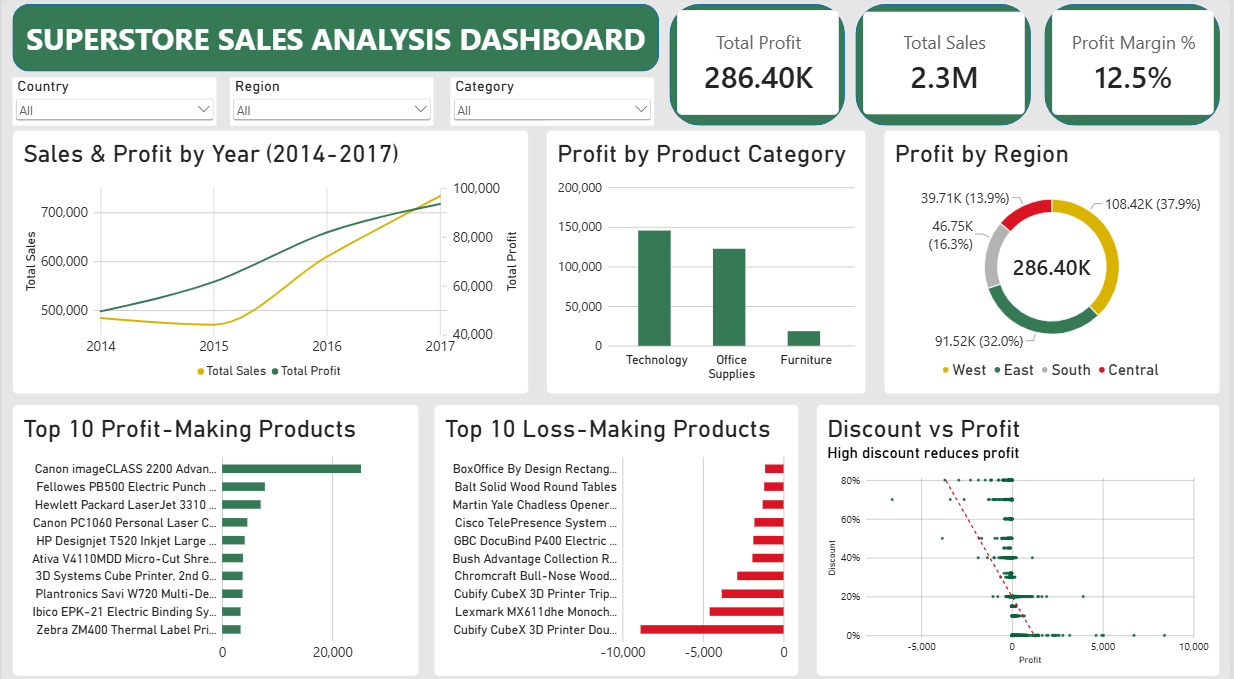

The page's visual inventory and layout, read from the dashboard file:
{"tool":"powerbi","page":{"name":"ANALYSIS DASHBOARD","canvas":[1920,1080],"ordinal":1},"visuals":[{"type":"shape","box":[16.4,14.1,1010.5,105.5],"z":0},{"type":"shape","box":[1043.3,14.1,274.3,189.9],"z":1000},{"type":"cardVisual","fields":{"Data":["Sample - Superstore.Total Profit"]},"box":[1055,23.4,253.2,164.1],"z":2000},{"type":"shape","box":[1334,14.1,274.3,189.9],"z":2001},{"type":"shape","box":[1629.4,14.1,274.3,189.9],"z":2002},{"type":"cardVisual","fields":{"Data":["Sample - Superstore.Total Sales"]},"box":[1345.7,25.8,253.2,161.8],"z":2003},{"type":"cardVisual","fields":{"Data":["Sample - Superstore.Profit Margin %"]},"box":[1641.1,23.4,253.2,164.1],"z":2004},{"type":"lineChart","title":"Sales & Profit by Year (2014-2017)","fields":{"Category":["Sample - Superstore.Order Date.Variation.Date Hierarchy.Year"],"Y":["Sample - Superstore.Total Sales"],"Y2":["Sample - Superstore.Total Profit"]},"box":[16.4,211,806.5,412.6],"z":2005},{"type":"columnChart","title":"Profit by Product Category","fields":{"Category":["Sample - Superstore.Category"],"Y":["Sample - Superstore.Total Profit"]},"box":[851,211,499.4,412.6],"z":2006},{"type":"donutChart","title":"Profit by Region","fields":{"Category":["Sample - Superstore.Region"],"Y":["Sample - Superstore.Total Profit"]},"box":[1378.6,211,525.2,412.6],"z":2007},{"type":"clusteredBarChart","title":"Top 10 Profit-Making Products","fields":{"Category":["Sample - Superstore.Product Name"],"Y":["Sample - Superstore.Total Profit"]},"box":[16.4,640,635.4,424.4],"z":2008},{"type":"clusteredBarChart","title":"Top 10 Loss-Making Products","fields":{"Category":["Sample - Superstore.Product Name"],"Y":["Sample - Superstore.Total Profit"]},"box":[675.2,640,569.7,424.4],"z":2009},{"type":"scatterChart","title":"Discount vs Profit ","fields":{"X":["Sample - Superstore.Profit"],"Y":["Sample - Superstore.Discount"]},"box":[1273.1,640,630.7,424.4],"z":2010},{"type":"slicer","fields":{"Values":["Sample - Superstore.Country"]},"box":[16.4,128.9,318.8,75],"z":2011},{"type":"slicer","fields":{"Values":["Sample - Superstore.Region"]},"box":[356.4,128.9,318,75],"z":2012},{"type":"slicer","fields":{"Values":["Sample - Superstore.Category"]},"box":[701,128.9,318,75],"z":2013}]}

Visuals, with their boxes in screenshot pixels (x1, y1, x2, y2), scaled from the page's 1920x1080 canvas onto the 1234x679 screenshot:
shape: 11, 9, 660, 75
shape: 671, 9, 847, 128
cardVisual - Sample - Superstore.Total Profit: 678, 15, 841, 118
shape: 857, 9, 1034, 128
shape: 1047, 9, 1224, 128
cardVisual - Sample - Superstore.Total Sales: 865, 16, 1028, 118
cardVisual - Sample - Superstore.Profit Margin %: 1055, 15, 1217, 118
"Sales & Profit by Year (2014-2017)" lineChart: 11, 133, 529, 392
"Profit by Product Category" columnChart: 547, 133, 868, 392
"Profit by Region" donutChart: 886, 133, 1224, 392
"Top 10 Profit-Making Products" clusteredBarChart: 11, 402, 419, 669
"Top 10 Loss-Making Products" clusteredBarChart: 434, 402, 800, 669
"Discount vs Profit " scatterChart: 818, 402, 1224, 669
slicer - Sample - Superstore.Country: 11, 81, 215, 128
slicer - Sample - Superstore.Region: 229, 81, 433, 128
slicer - Sample - Superstore.Category: 451, 81, 655, 128
